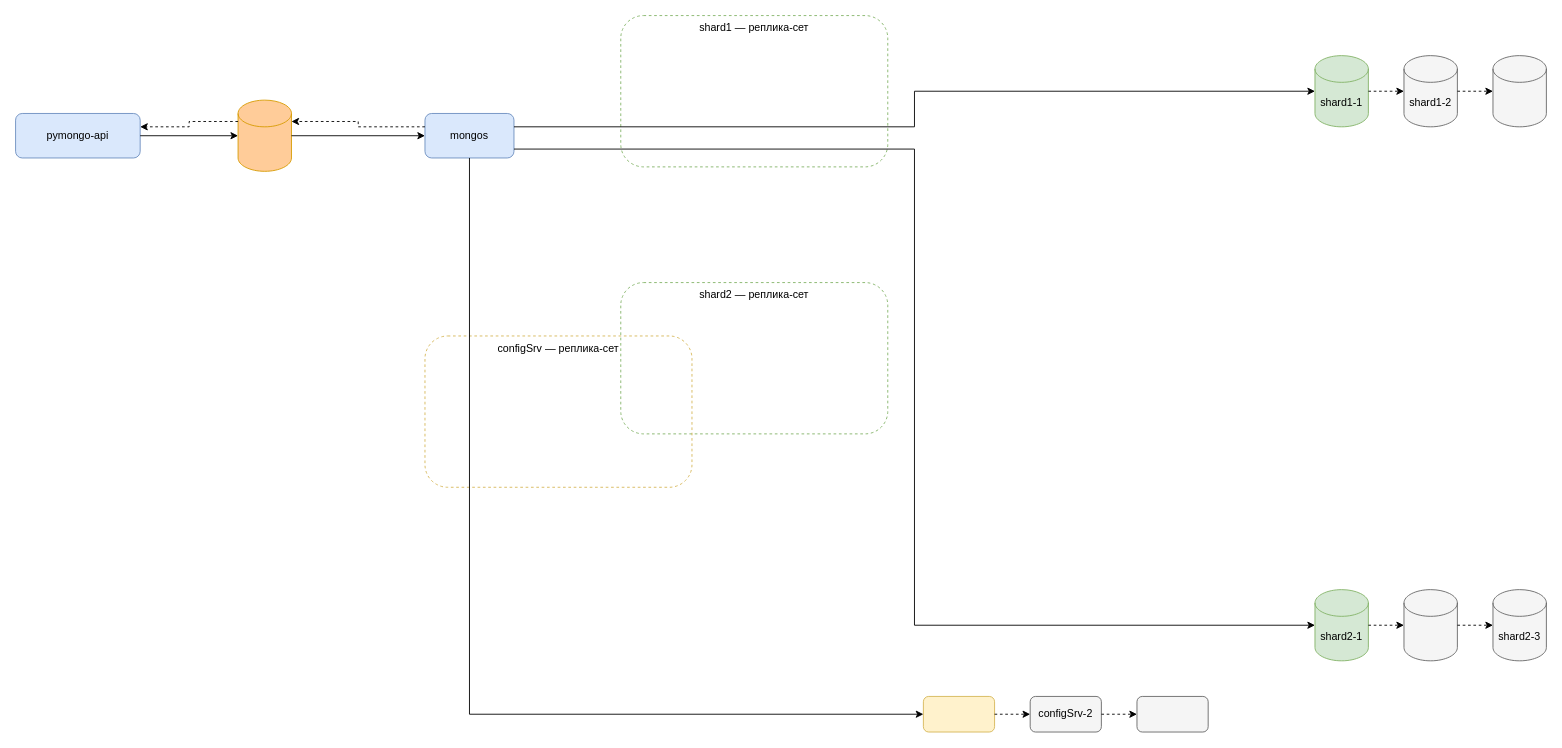
Some shapes in this 1562 by 748 pixel diagram are drawn without their labels. Each missing label, with the centre of its shape:
configSrv-1: point 958,714
configSrv-3: point 1172,714
redis: point 264,135
shard1-3: point 1519,91
shard2-2: point 1430,625
